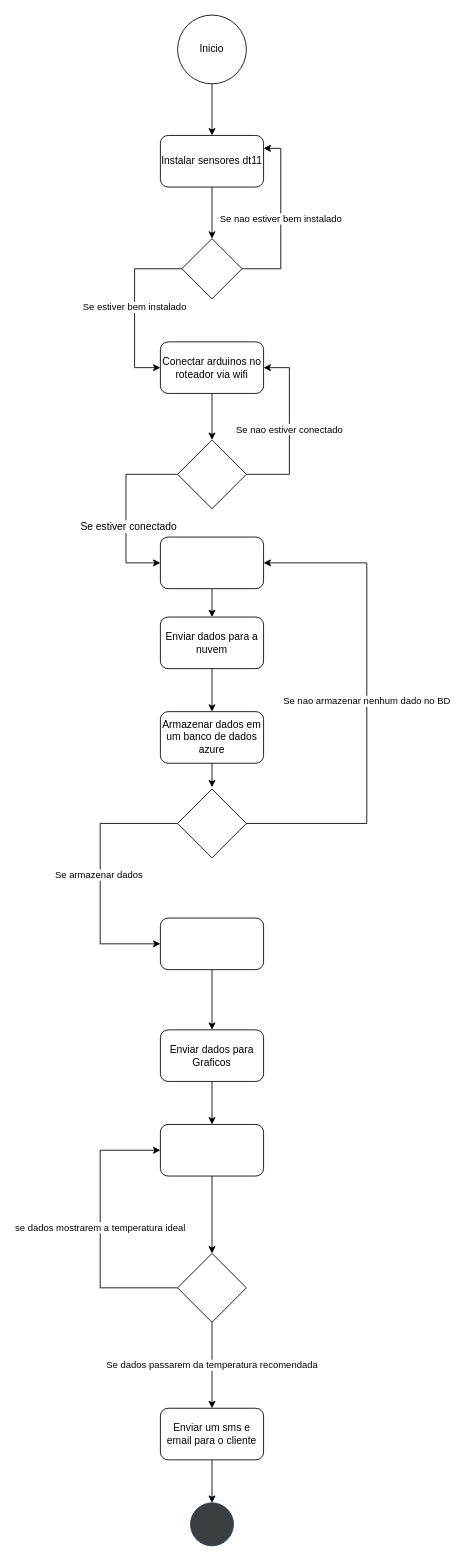
Some shapes in this 464 by 1561 pixel diagram are drawn without their labels. The box of each missing label's shape, as (x1, y1, x2, y2) in pixels:
Captar dados: (160, 536, 264, 589)
Fim: (190, 1502, 233, 1546)
Mostrar dados na dashoard: (160, 1124, 264, 1176)
Tratar dados com NodeJs: (160, 917, 264, 970)
